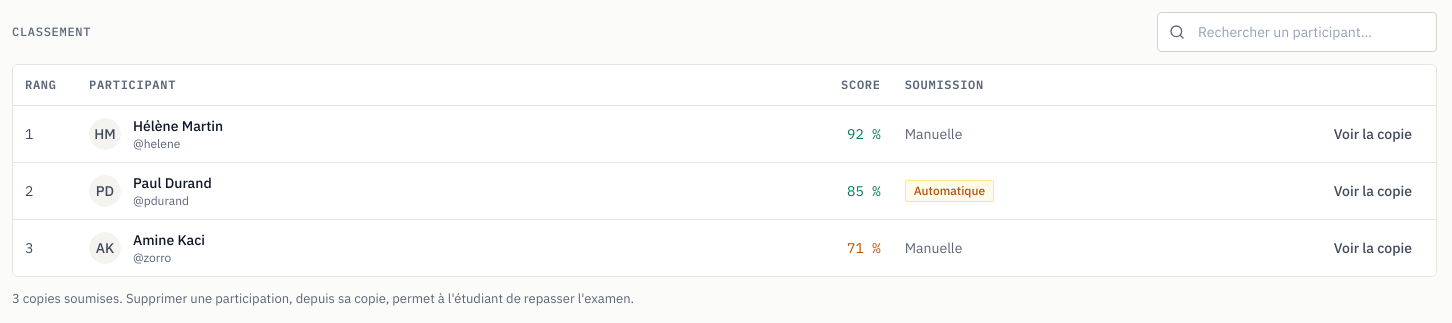
Test case: ExamLeaderboard — recherche › annonce qu'aucun participant ne correspond
Step 1. Type "inconnu" into the field with placeholder "Rechercher un participant…" → point(1297, 32), box [1157,12,1437,52]
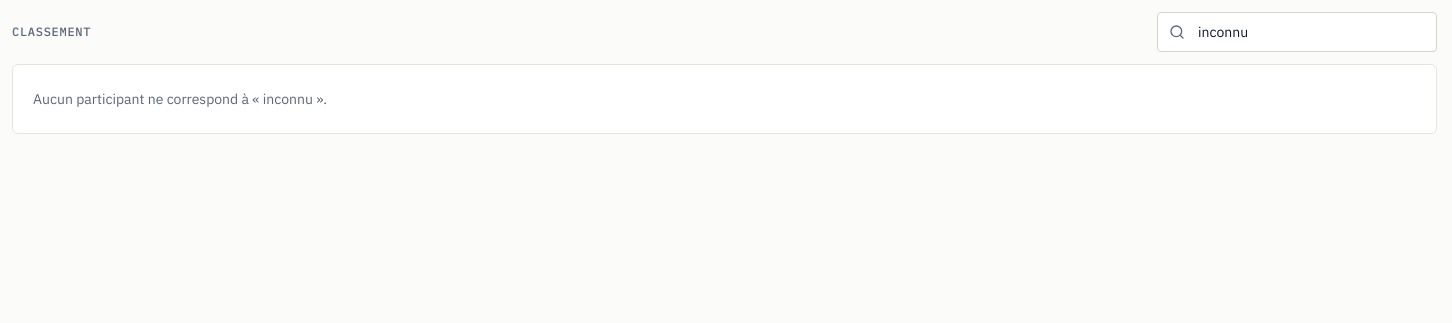
Expected: the text "Aucun participant ne correspond à « inconnu »." is shown, [12,64,1437,134]
